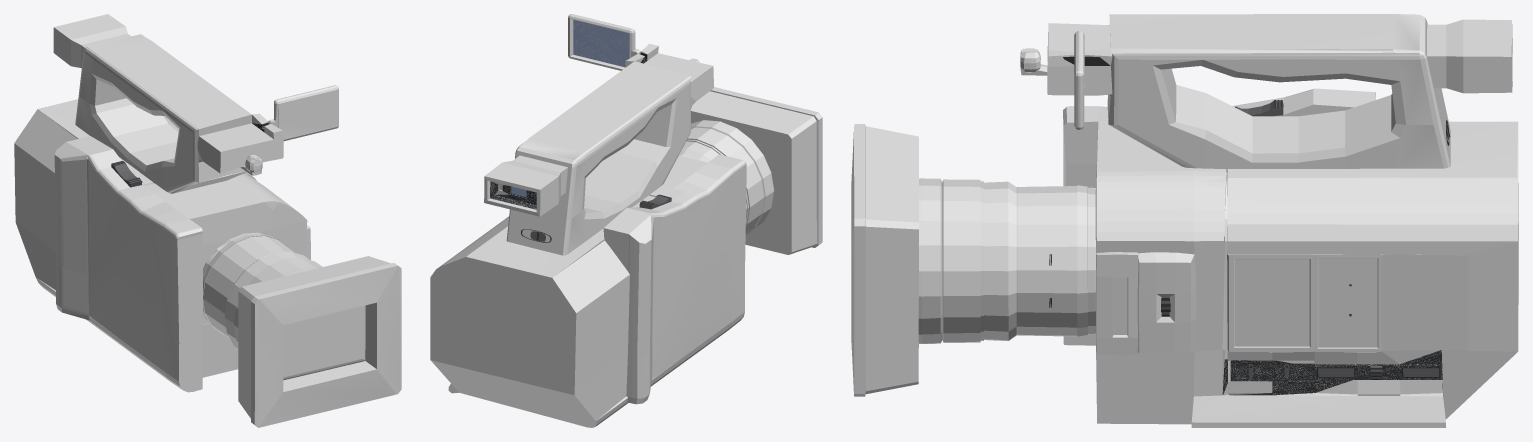
Rendered from HighCam.fbx.
The picture shows the model from 3 angles, left to right: view 1: azimuth 30°, elevation 25°; view 2: azimuth 150°, elevation 25°; view 3: azimuth 270°, elevation 25°; orthographic projection. The views are drawn at different scales.
Parts seen in each view (by area): view 1: Monitor; view 2: Monitor; view 3: Monitor.
Part boxes in pixels (x1,y1,x2,y2): Monitor: (14, 14, 401, 427); Monitor: (430, 14, 822, 427); Monitor: (851, 14, 1518, 427).
Bounding box in the file's own units: 17.15 × 24.37 × 39.9.
